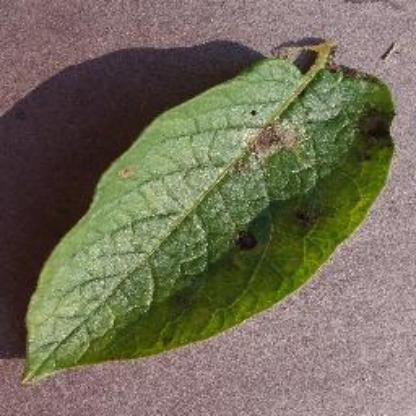Late-Blight: (15, 37, 397, 391)
